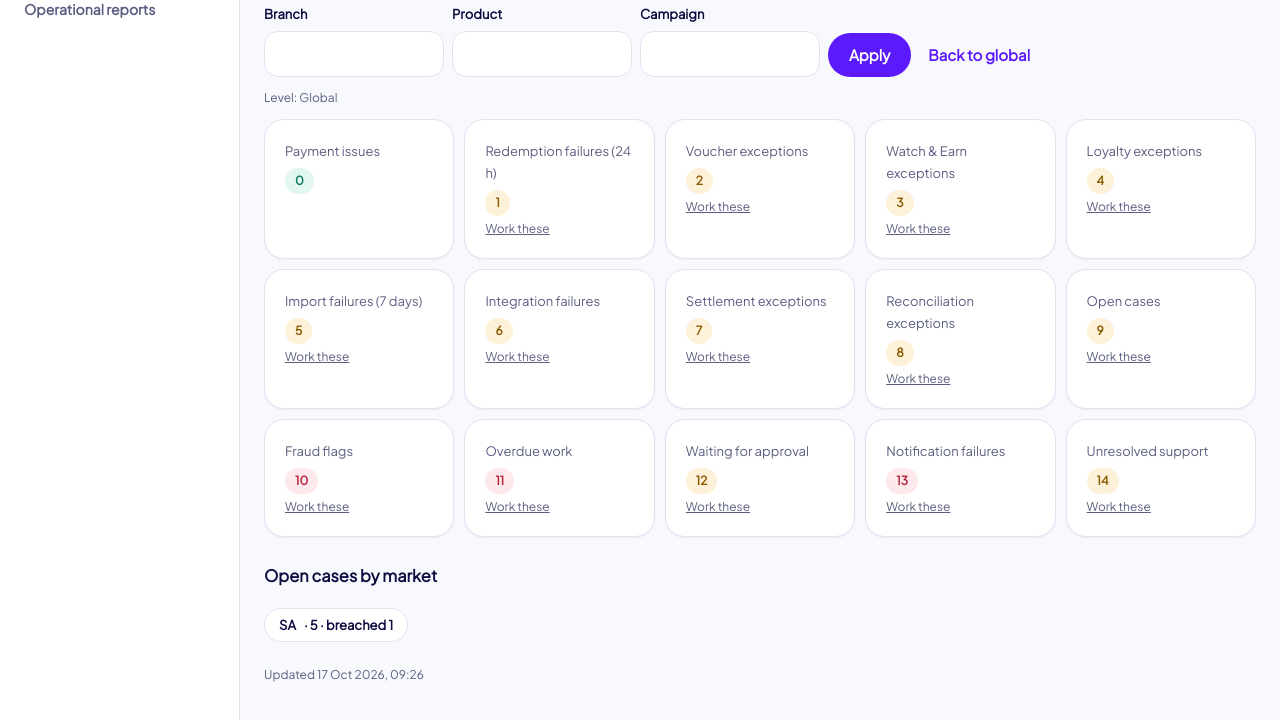
Scenario: Stage 8 admin operations › command centre exceptions: every area, a market drill-down narrows the query
(page scrolled)
Check: the element with test id "exc-FRAUD_FLAGS" shows "Fraud flags", box [285,443,353,459]
Check: the text with test id "exc-level" shows "Global", box [299,90,337,105]
Click the button with test id "exc-market-SA" at [336, 625], box [264,608,408,642]
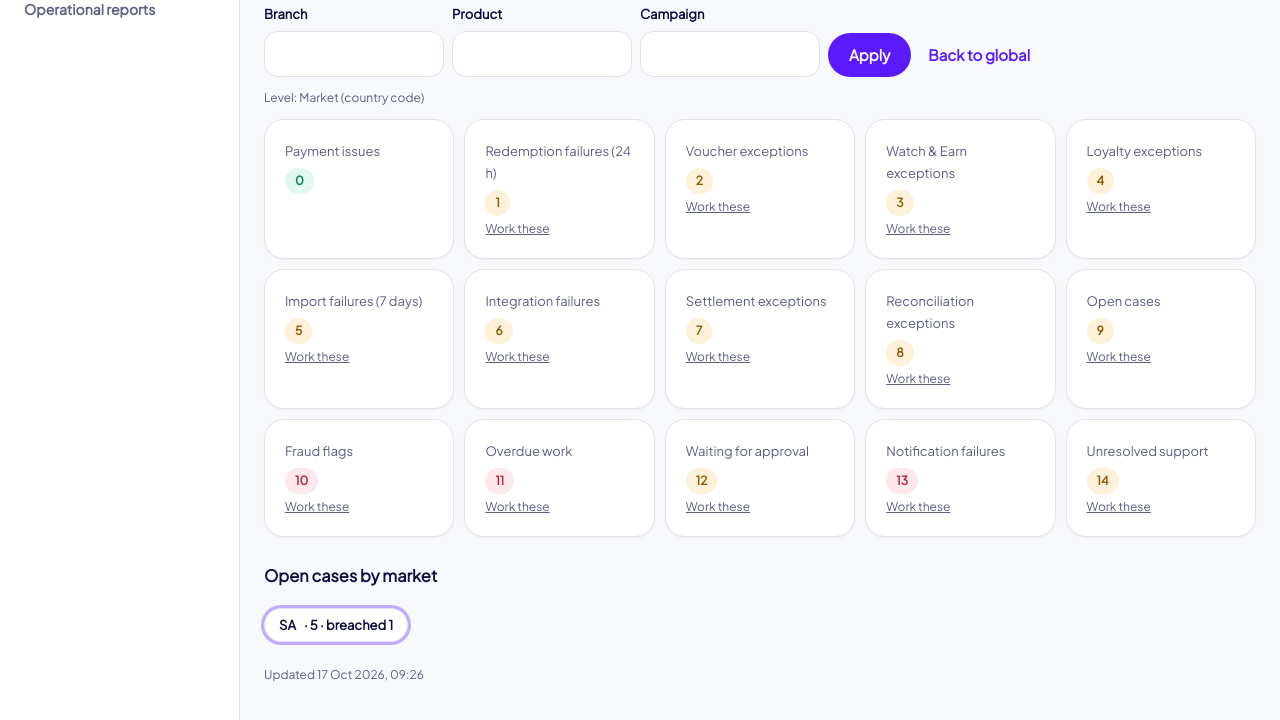
Check: the text "Level: Market (country code)" is shown, box [264,90,424,105]
